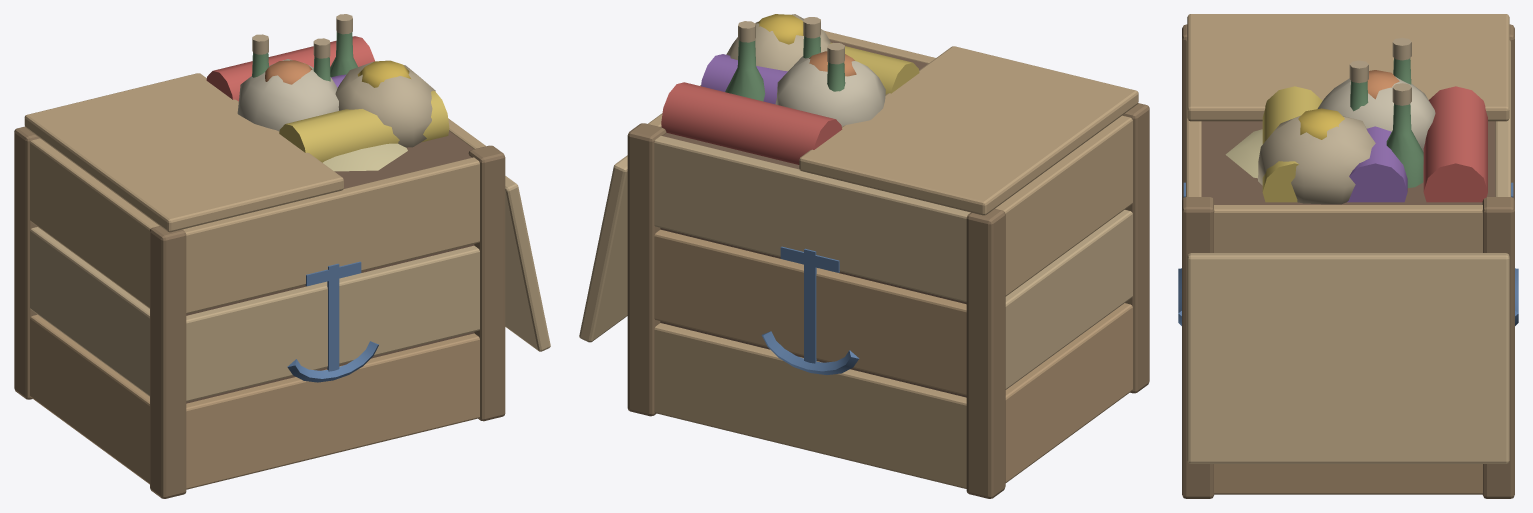
Rendered from loot.glb.
The picture shows the model from 3 angles, left to right: view 1: azimuth 30°, elevation 25°; view 2: azimuth 150°, elevation 25°; view 3: azimuth 270°, elevation 25°; orthographic projection. The views are drawn at different scales.
Visible parts, largest first — view 1: crate_rum, crate_spice, crate_silk; view 2: crate_rum, crate_silk, crate_spice; view 3: crate_rum, crate_silk, crate_spice.
Part boxes in pixels (x1,y1,x2,y2): crate_rum: [14, 14, 550, 498]; crate_spice: [237, 59, 435, 147]; crate_silk: [206, 36, 449, 162]; crate_rum: [579, 17, 1149, 498]; crate_silk: [661, 42, 919, 164]; crate_spice: [726, 14, 885, 126]; crate_rum: [1178, 14, 1518, 498]; crate_silk: [1262, 86, 1487, 202]; crate_spice: [1258, 70, 1435, 204].
Bounding box in the file's own units: 0.9332 × 0.786 × 0.634.
